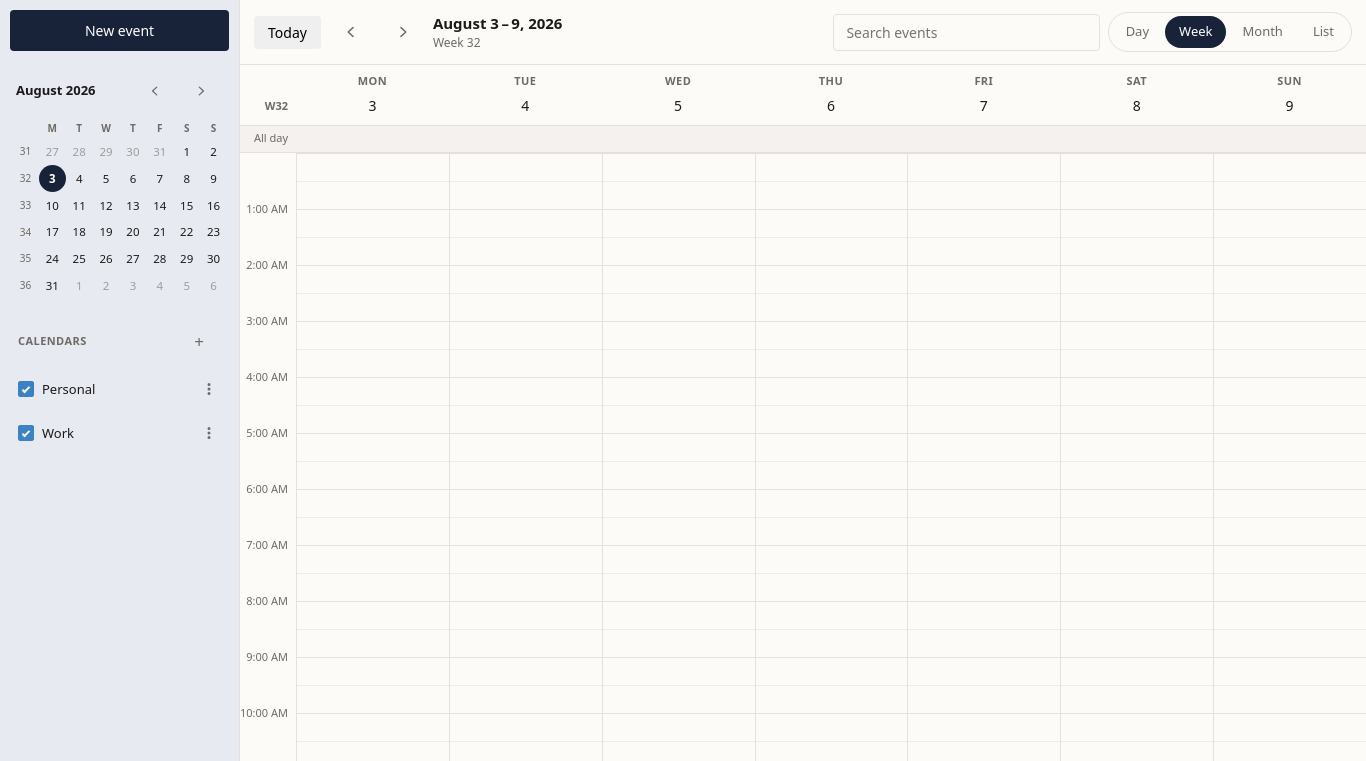
it: CalendarLayout — searching › gives the grid back at the day a search hit sits on
In the search field labelled "Search events": (966, 32) [833,14,1100,50], type "dentist"
Then press Enter
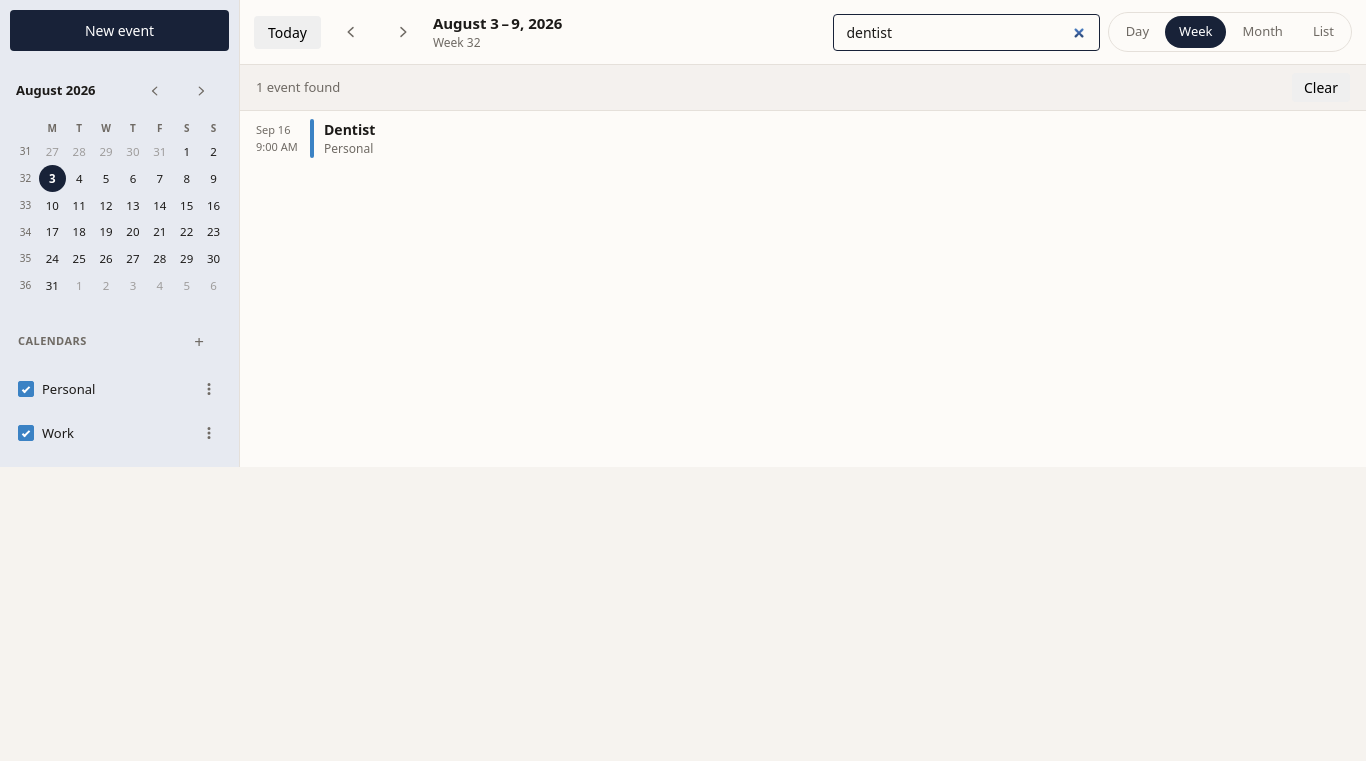
Click the button "Sep 16 9:00 AM Dentist Personal": (273, 130) [240,111,1365,166]
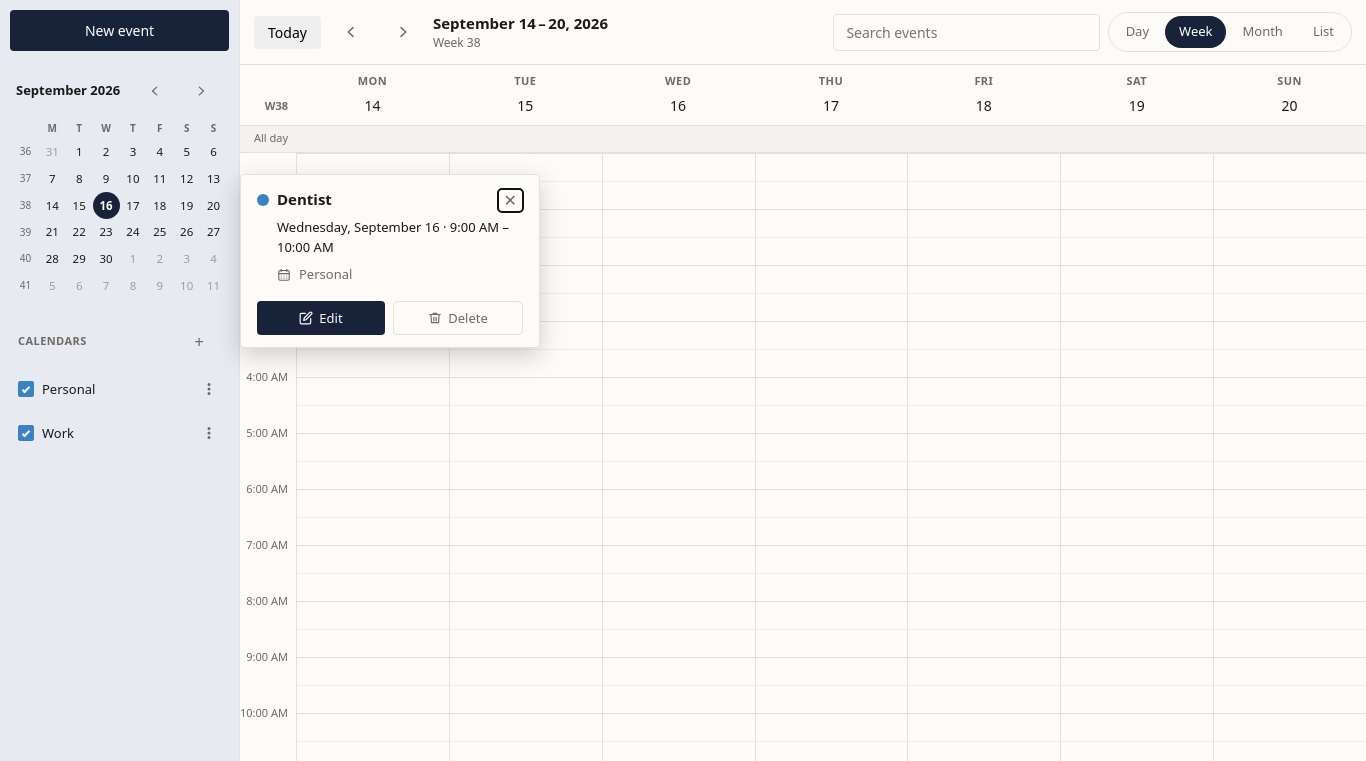
Now the search field labelled "Search events" is empty, box [833,14,1100,50]
Now the dialog "Dentist" is shown, box [240,174,540,348]
